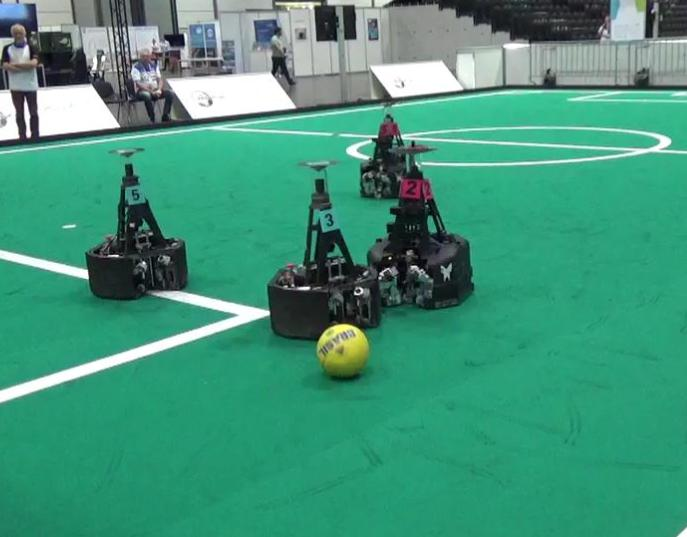robot: (260, 154, 386, 340), (369, 141, 482, 311), (79, 145, 192, 300)
